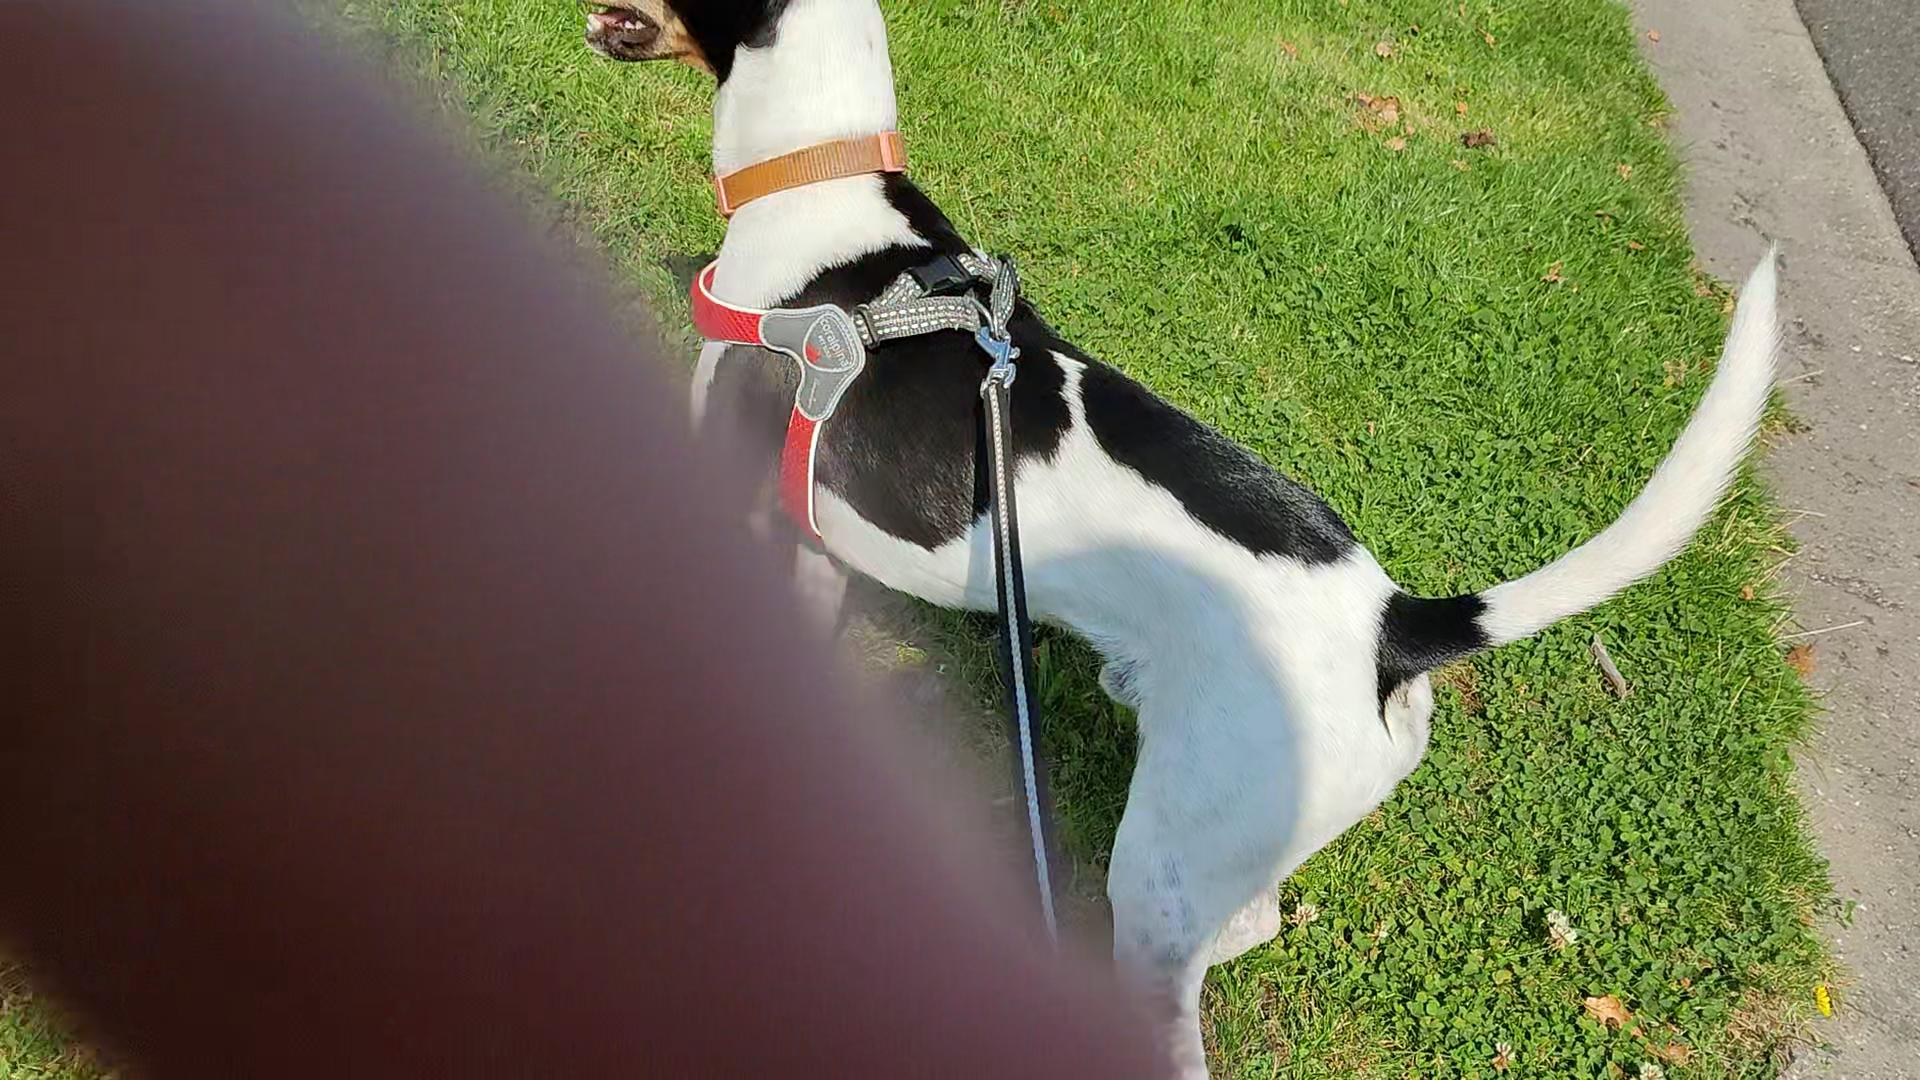Dog: (578, 0, 1803, 1079)
